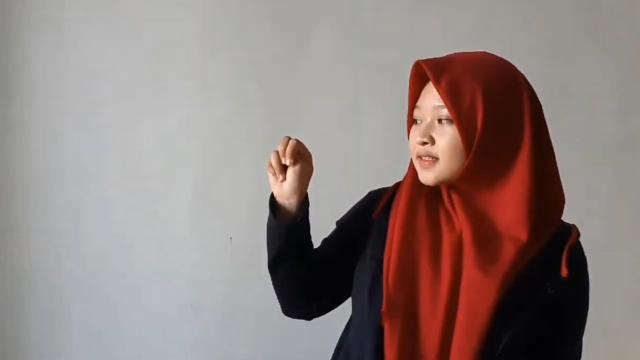N: (267, 134, 317, 204)
